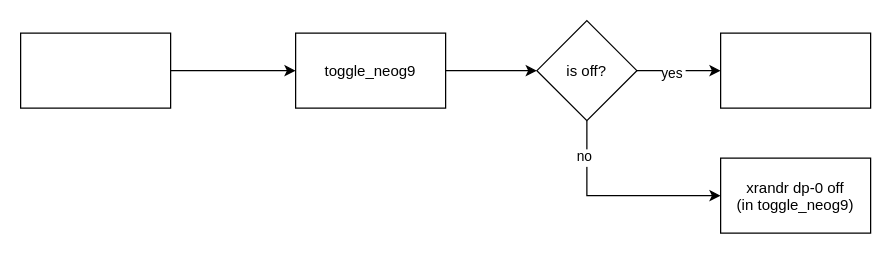
Some shapes in this 891 by 254 pixel diagram are drawn without their labels. Each missing label, with the centre of its shape:
awm: "8": the point at 95,70
neog9_ON: the point at 795,70
